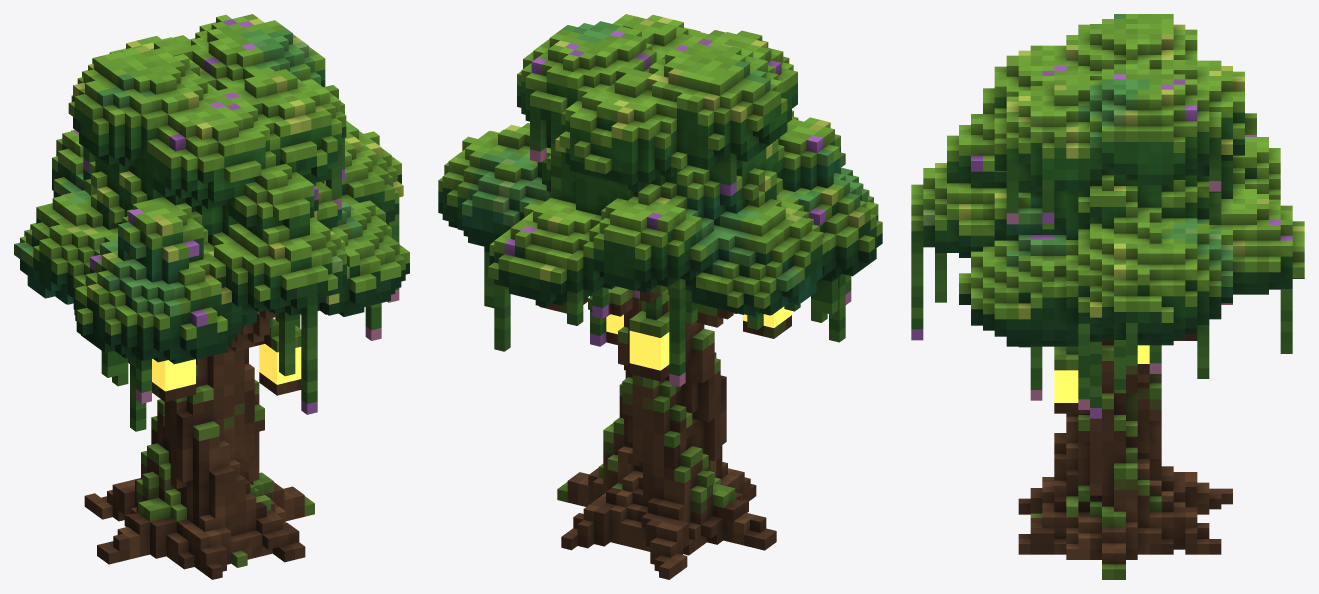
Rendered from tree-ancient-l.glb.
The picture shows the model from 3 angles, left to right: view 1: azimuth 30°, elevation 25°; view 2: azimuth 150°, elevation 25°; view 3: azimuth 270°, elevation 25°; orthographic projection.
Parts seen in each view (by area): view 1: TREE_ANCIENT_L__details; view 2: TREE_ANCIENT_L__details; view 3: TREE_ANCIENT_L__details.
Boxes of the visible parts, left/top/right/bottom form: TREE_ANCIENT_L__details: left=14, top=14, right=409, bottom=579; TREE_ANCIENT_L__details: left=438, top=14, right=882, bottom=579; TREE_ANCIENT_L__details: left=911, top=14, right=1304, bottom=579.
Bounding box in the file's own units: 1.59 × 2 × 1.5.
